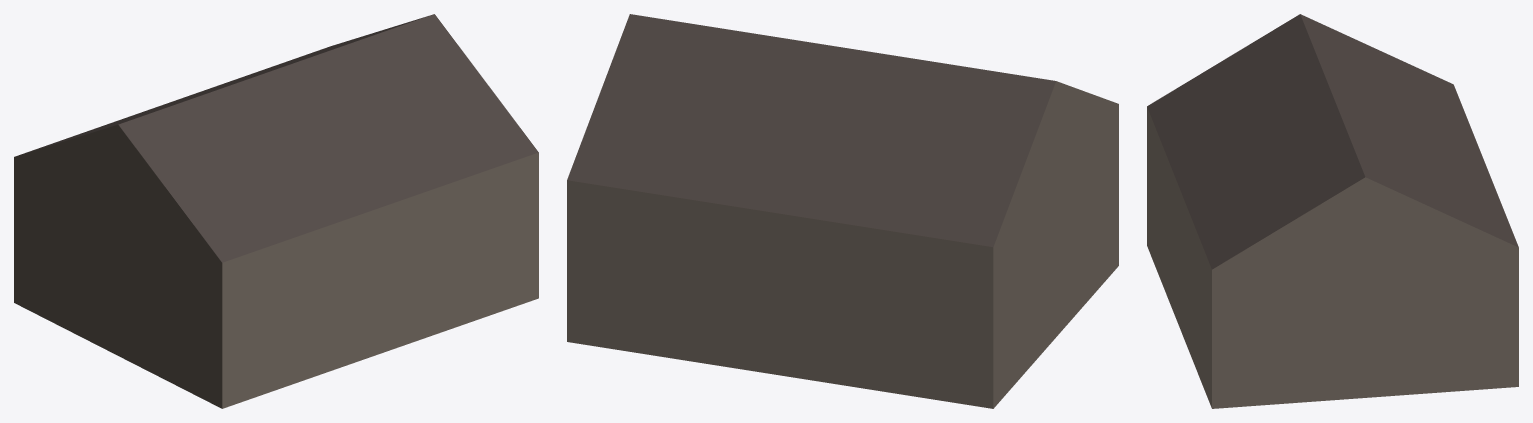
3 views of the same model, side by side, from view 1: azimuth 30°, elevation 25°; view 2: azimuth 150°, elevation 25°; view 3: azimuth 270°, elevation 25° (orthographic). The views are drawn at different scales.
Visible parts, largest first — view 1: HP-w859467730; view 2: HP-w859467730; view 3: HP-w859467730.
Boxes of the visible parts, bbox=[...] form: HP-w859467730: bbox=[14, 14, 538, 408]; HP-w859467730: bbox=[567, 14, 1118, 408]; HP-w859467730: bbox=[1147, 14, 1518, 408].
Bounding box in the file's own units: 17.12 × 9.51 × 14.52.
